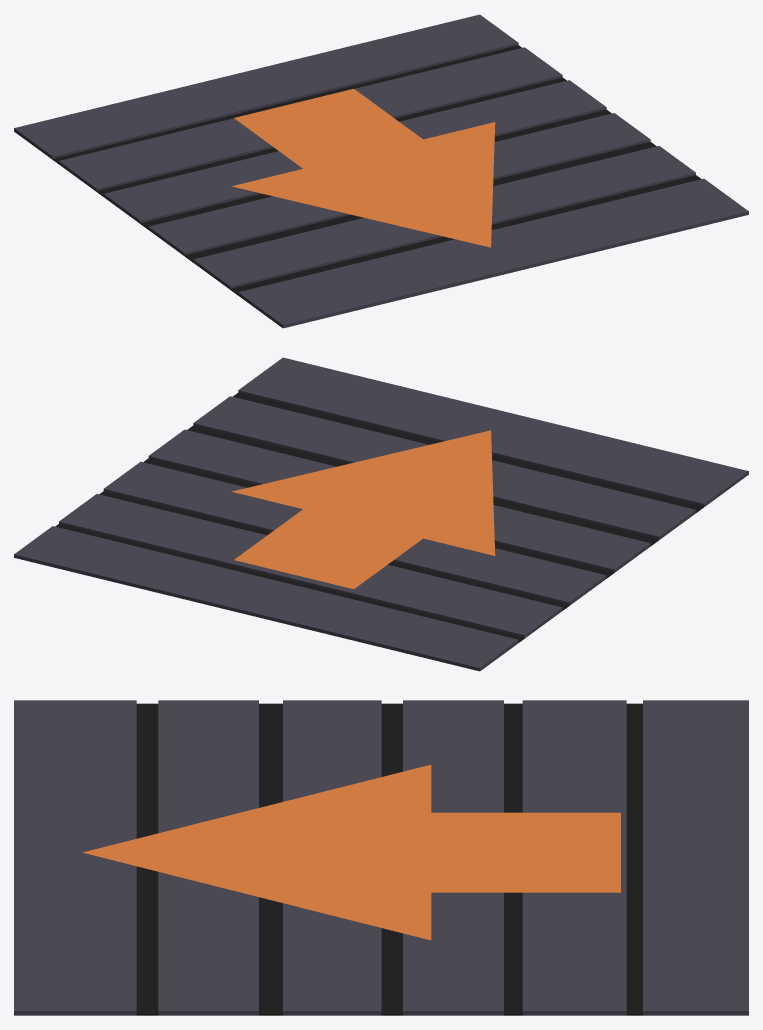
Rendered from ConveyorBelt.fbx.
3 renders of one model, top to bottom at view 1: azimuth 30°, elevation 25°; view 2: azimuth 150°, elevation 25°; view 3: azimuth 270°, elevation 25°, orthographic. The views are drawn at different scales.
Parts seen in each view (by area): view 1: ConveyorBelt; view 2: ConveyorBelt; view 3: ConveyorBelt.
Boxes of the visible parts, x1=… form: ConveyorBelt: x1=14, y1=14, x2=748, y2=328; ConveyorBelt: x1=14, y1=357, x2=748, y2=671; ConveyorBelt: x1=14, y1=700, x2=748, y2=1015.
Bounding box in the file's own units: 1000 × 11.66 × 1000.
